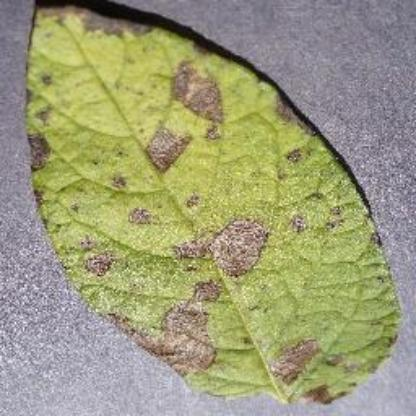Early-Blight: (26, 4, 392, 406)
